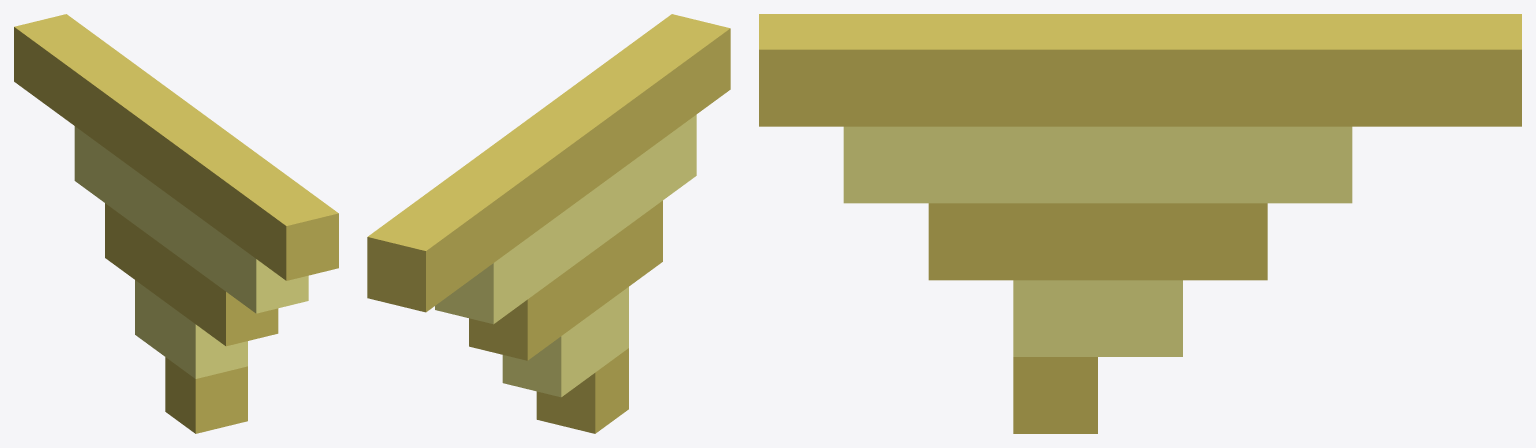
File: YellowHouseParts-14.obj
3 views of the same model, side by side, from view 1: azimuth 30°, elevation 25°; view 2: azimuth 150°, elevation 25°; view 3: azimuth 270°, elevation 25° (orthographic). The views are drawn at different scales.
Bounding box in the file's own units: 0.1 × 0.5 × 0.9.
Materials: 1 (1 with a texture image).
